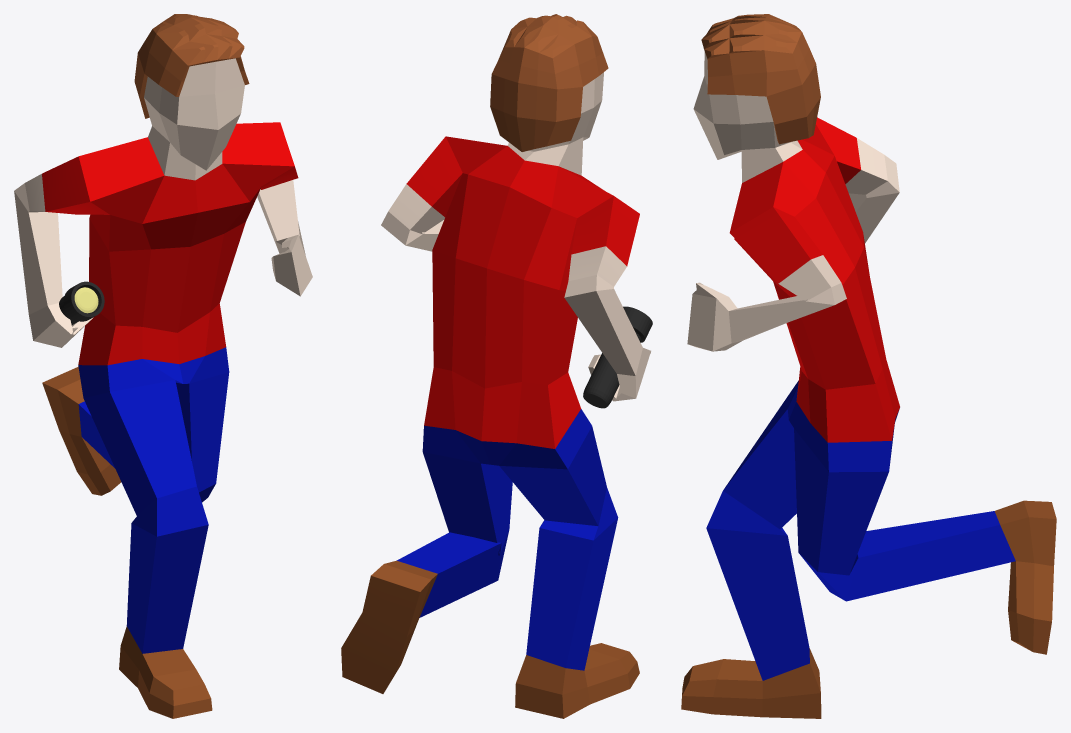
The model's file is Human_running_20.fbx.
The picture shows the model from 3 angles, left to right: view 1: azimuth 30°, elevation 25°; view 2: azimuth 150°, elevation 25°; view 3: azimuth 270°, elevation 25°; orthographic projection. The views are drawn at different scales.
Visible parts, largest first — view 1: Person.004, Flashlight; view 2: Person.004, Flashlight; view 3: Person.004.
Boxes of the visible parts, x1,y1,x2,y2 form: Person.004: (14,14,312,718); Flashlight: (59,281,104,324); Person.004: (341,14,650,718); Flashlight: (583,306,652,408); Person.004: (681,14,1056,718).
Bounding box in the file's own units: 0.5969 × 1.48 × 0.7183.
